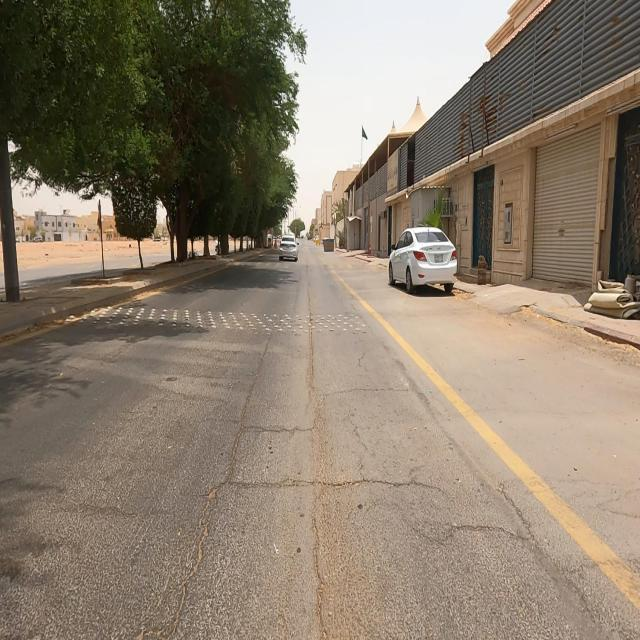debris: (552, 239, 640, 349), (366, 123, 424, 218)
